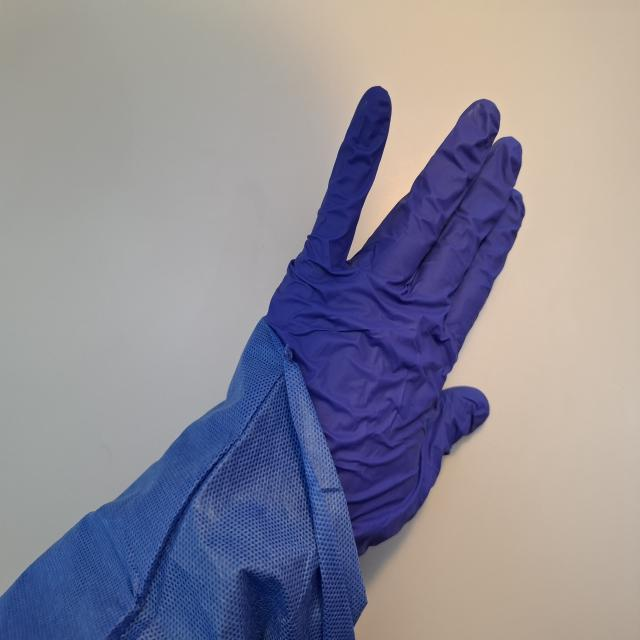glove_on: (224, 83, 528, 556)
